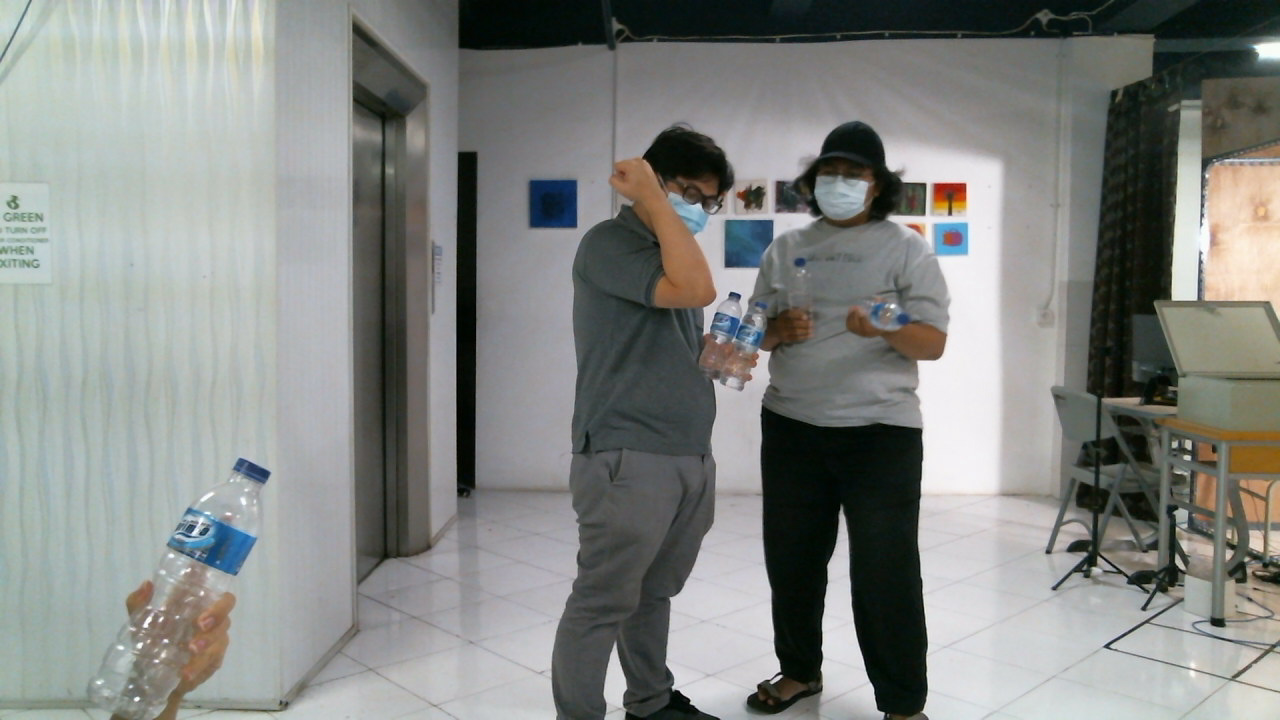Bottle: (81, 456, 270, 715), (718, 305, 771, 393)
